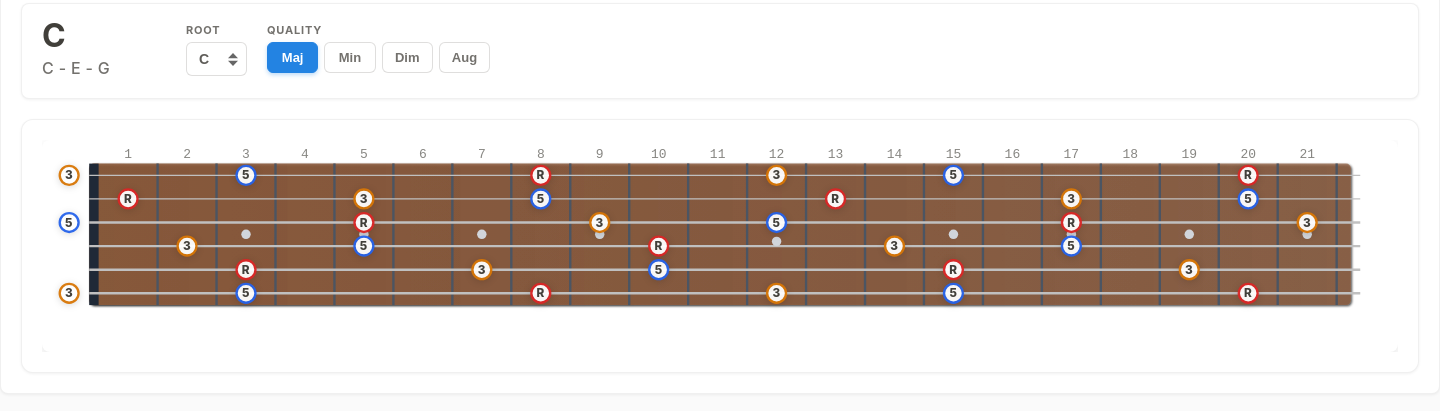
Test: TriadSelector Component › User Interactions › updates chord display when selection changes
Check: the text with class "triad-selector__chord-symbol" reads "C", box left=42, top=16, right=65, bottom=55
Check: the text with class "triad-selector__chord-notes" reads "C - E - G", box left=42, top=58, right=110, bottom=78
Note: Change to A minor using dropdown and button
Select "A" in the dropdown named "select root note": (216, 59) left=186, top=42, right=247, bottom=76
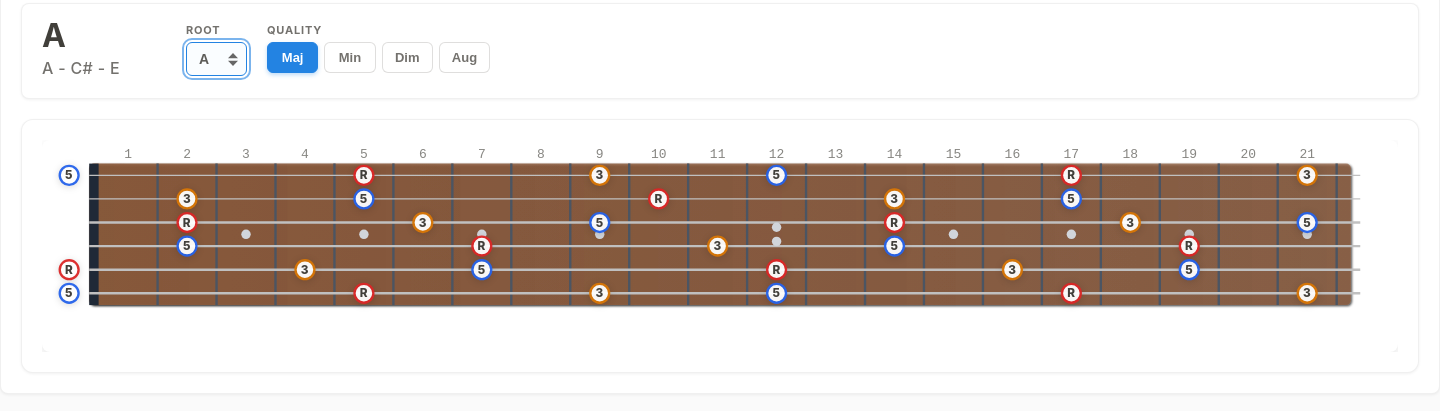
Click the button "Min": (350, 58) left=324, top=42, right=376, bottom=73
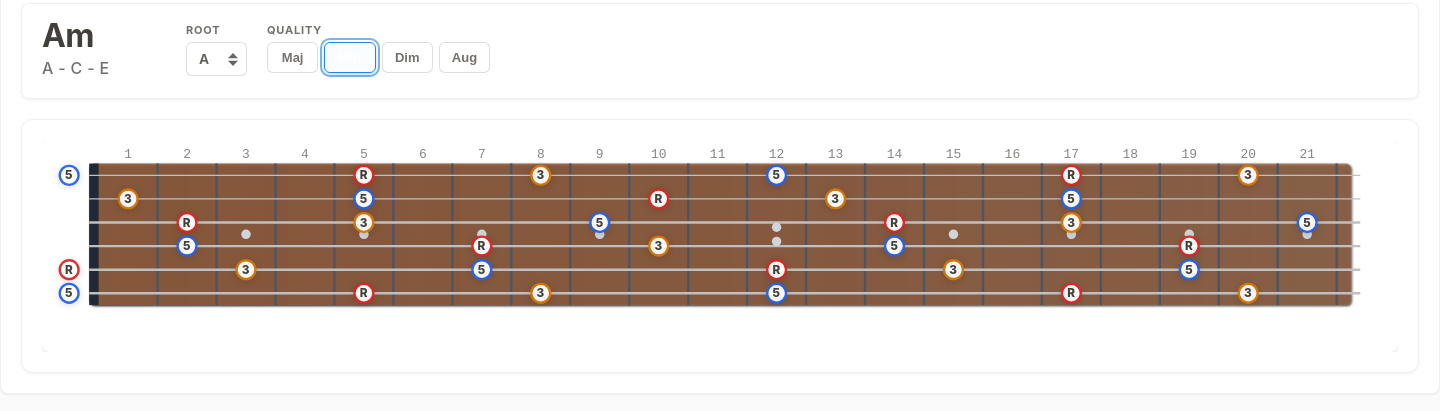
Check: the text with class "triad-selector__chord-symbol" reads "Am", box left=42, top=16, right=94, bottom=55
Check: the text with class "triad-selector__chord-notes" reads "A - C - E", box left=42, top=58, right=110, bottom=78
